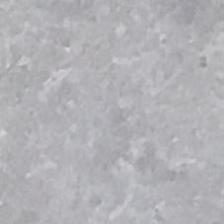Non_Crack: (13, 21, 224, 192)
